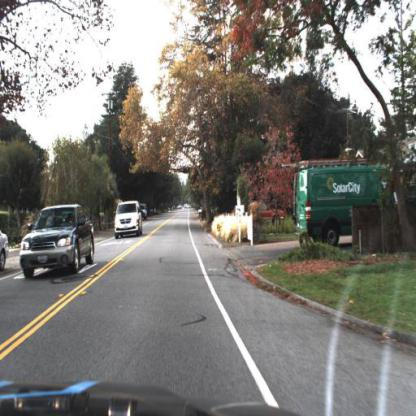car: (292, 159, 405, 248), (20, 206, 96, 283), (113, 201, 141, 239), (137, 202, 150, 220)
truck: (292, 161, 383, 245)
